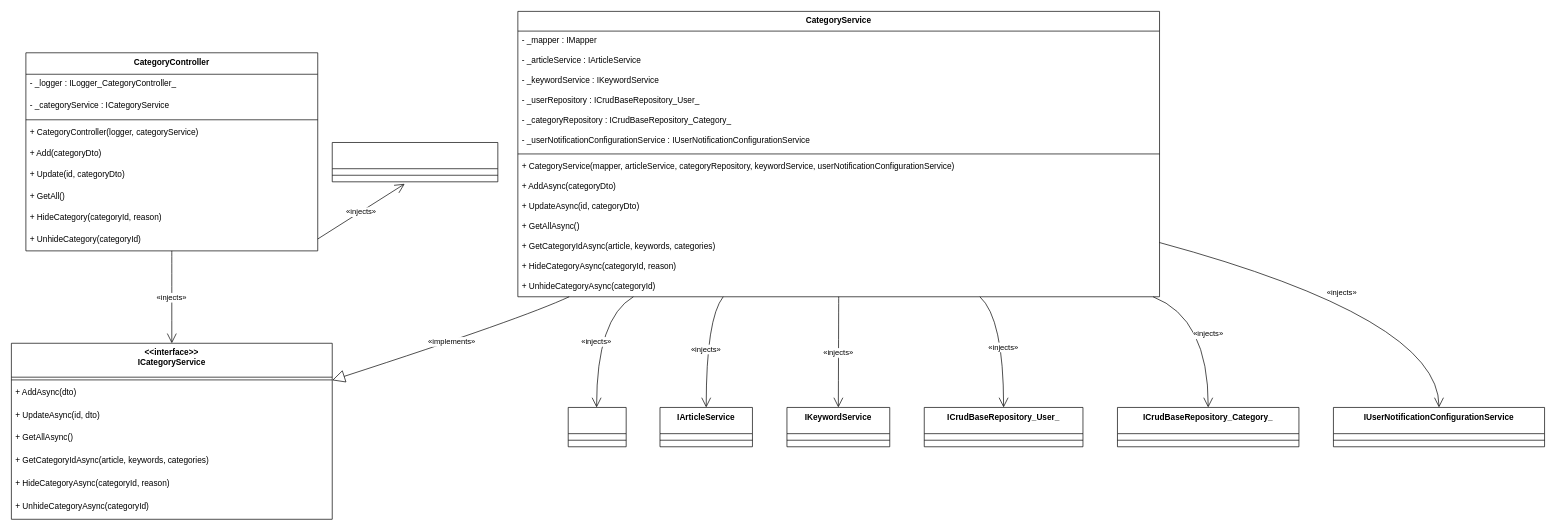
Some shapes in this 1556 by 531 pixel diagram are drawn without their labels. The box of each missing label's shape, as (x1, y1, x2, y2) in pixels:
ILogger_CategoryController_: (332, 142, 498, 182)
IMapper: (568, 407, 626, 447)
